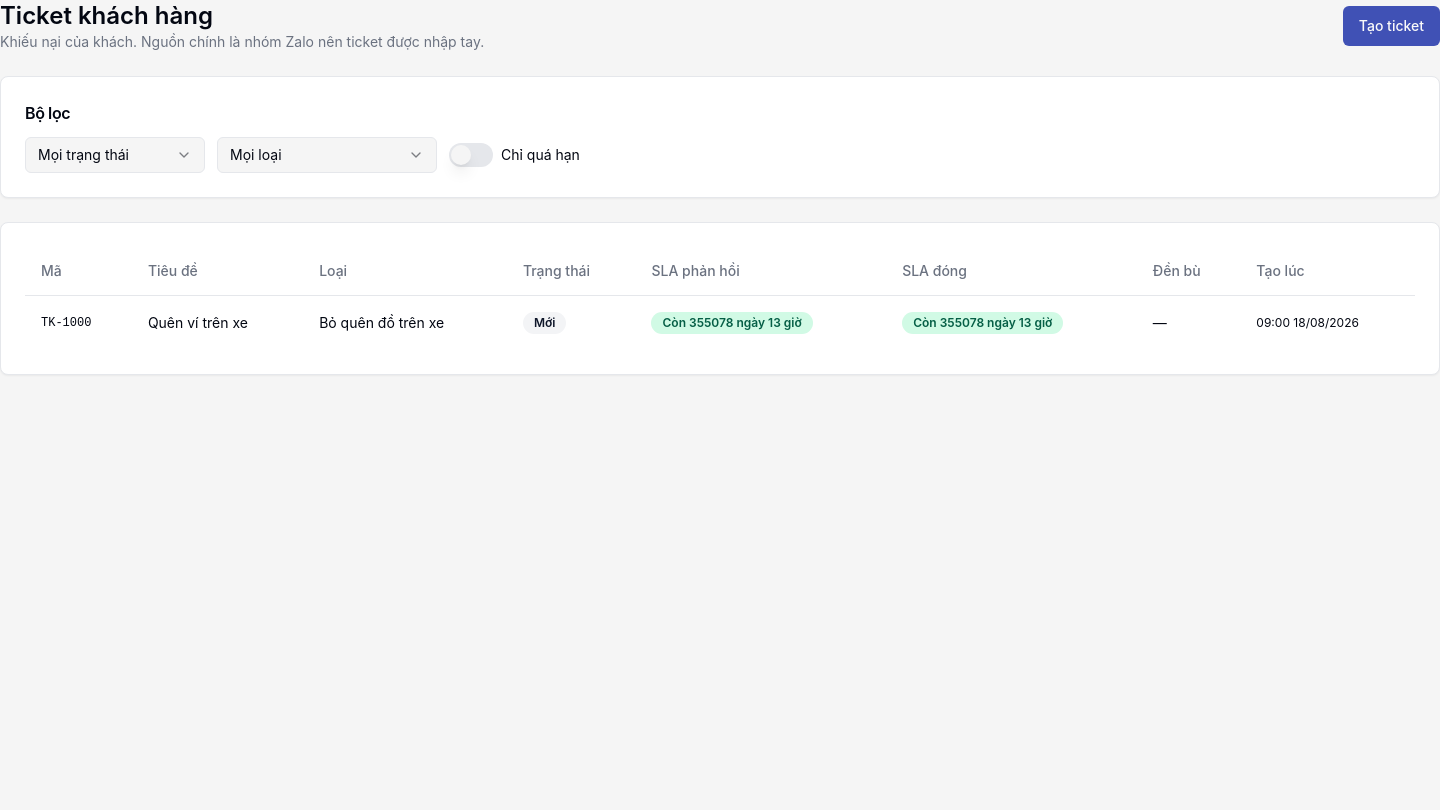
Test: /crm-tickets — chi tiết & ĐỀN BÙ (ranh giới quyền) › ticket CLOSED không còn nút chuyển trạng thái nào
Click the row with test id "crm-ticket-row" at (720, 322), box x1=25 y1=295 x2=1415 y2=350
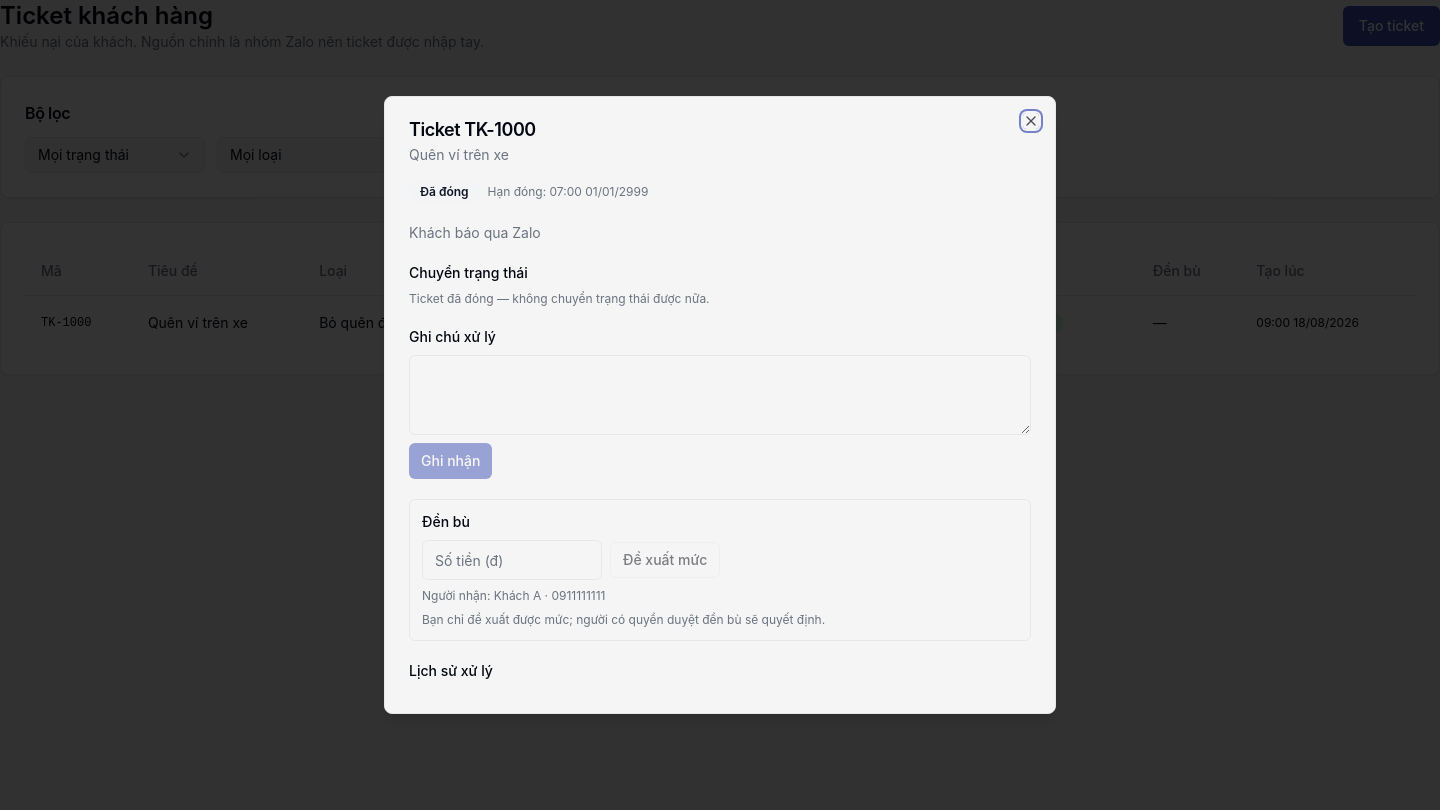
Expected: the heading "Ticket TK-1000" is shown, x1=409 y1=119 x2=536 y2=140
Expected: the text "Ticket đã đóng — không chuyển trạng thái được nữa." is shown, x1=409 y1=291 x2=710 y2=307
